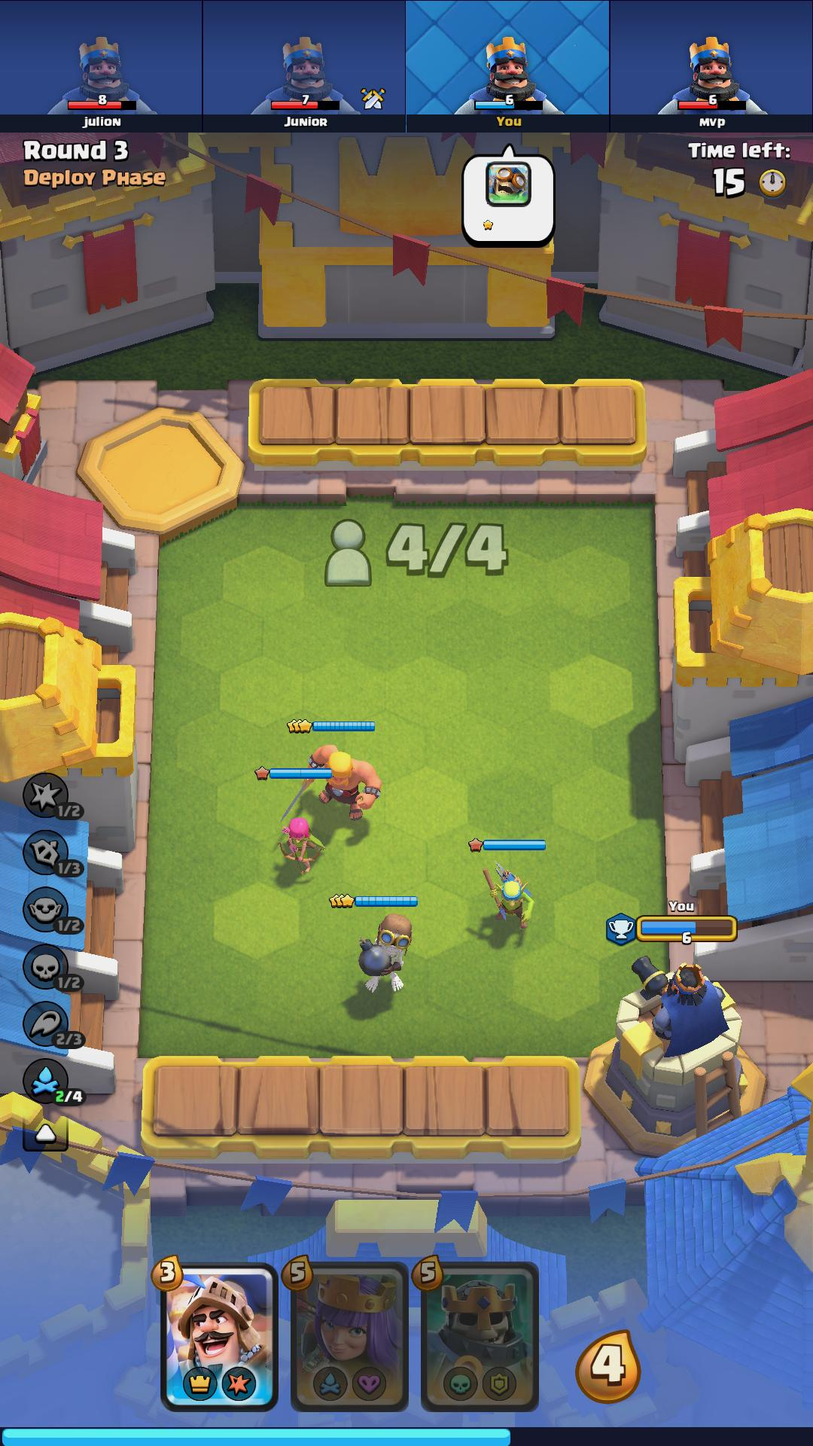archer: (275, 815, 327, 876)
barbarian: (305, 741, 382, 825)
bomber: (349, 908, 414, 991)
hand-king: (422, 1265, 536, 1408)
hand-prince: (164, 1264, 277, 1409)
hand-queen: (291, 1263, 409, 1409)
spear: (475, 859, 538, 934)
